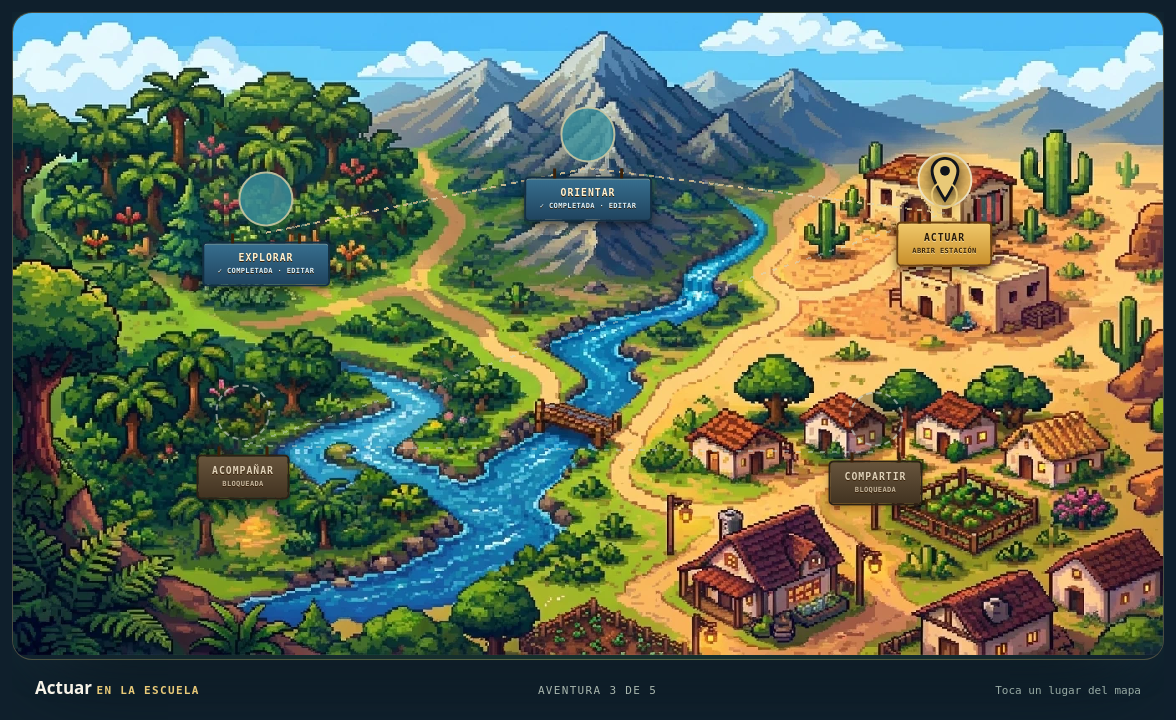
Invariant 7 — a selected station always exists in the catalog › only ever surfaces stations from STATIONS
This screenshot has width=1176, height=720.
Click the button with aria-label "actuar en la escuela" at point(944, 180), box x1=917 y1=152 x2=972 y2=207
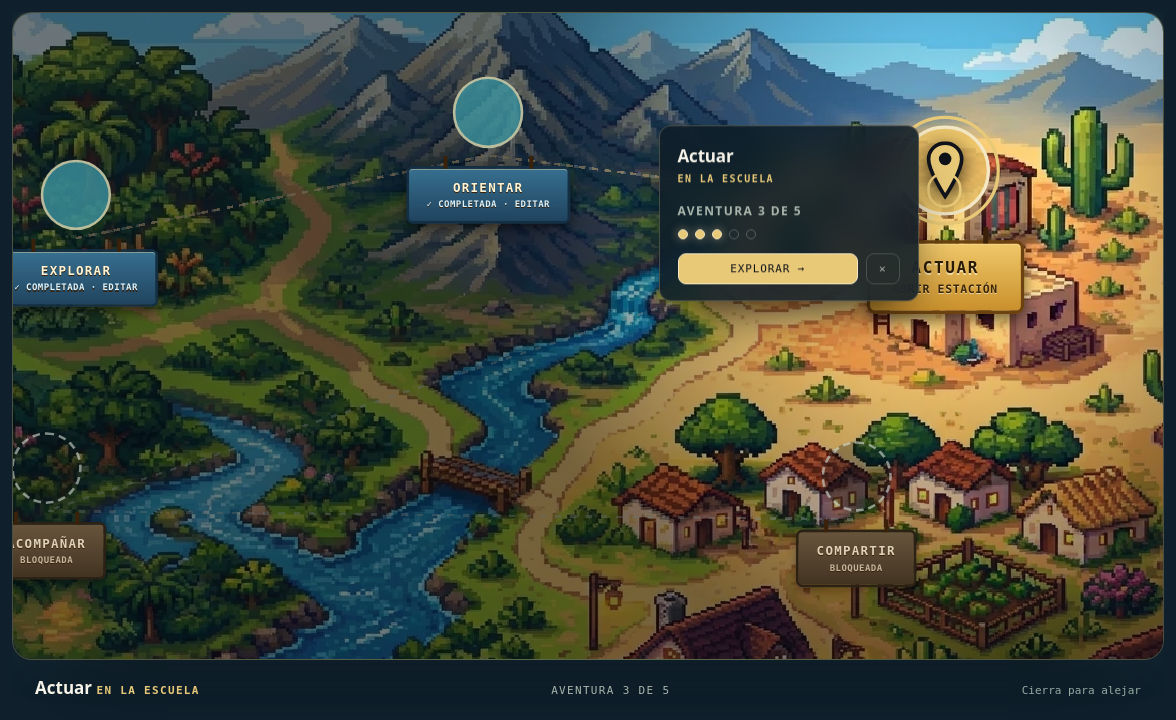
Expected: the element showing "Explorar ✓ Completada · editar" is shown, x1=12 y1=249 x2=158 y2=306
Now the button "Explorar →" is shown, box x1=678 y1=253 x2=858 y2=284
